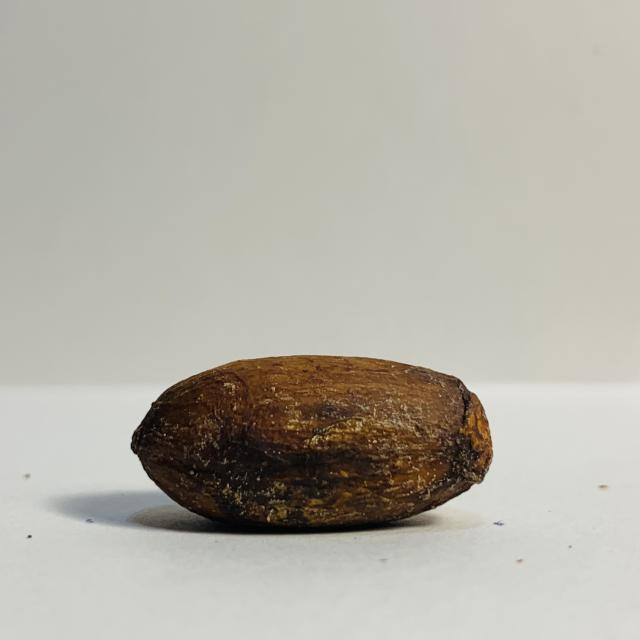Fine_cocoabeans: (0, 333, 549, 561)
